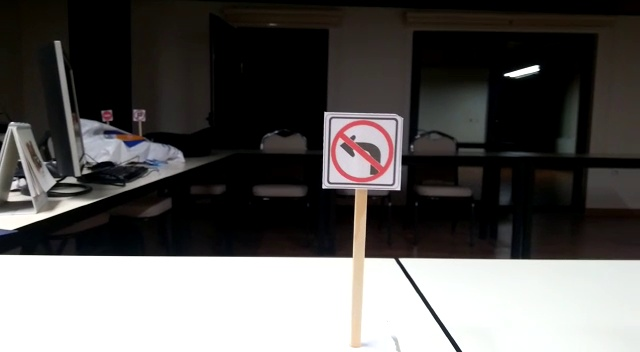sola_donulmez: (323, 117, 400, 187)
